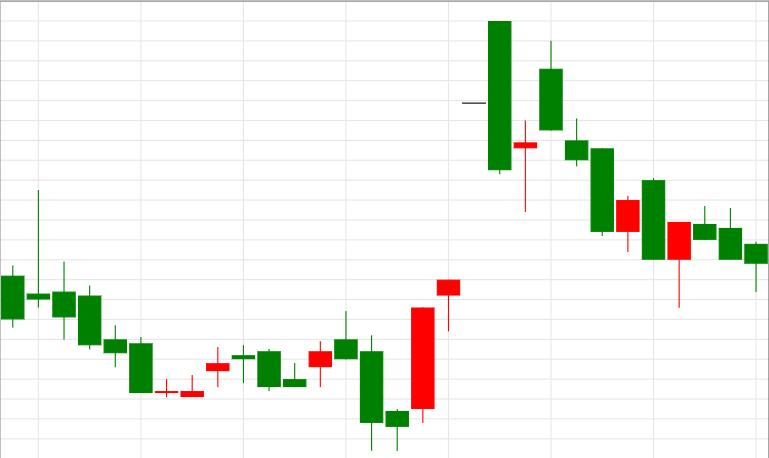hammer_rise: (539, 41, 690, 307)
